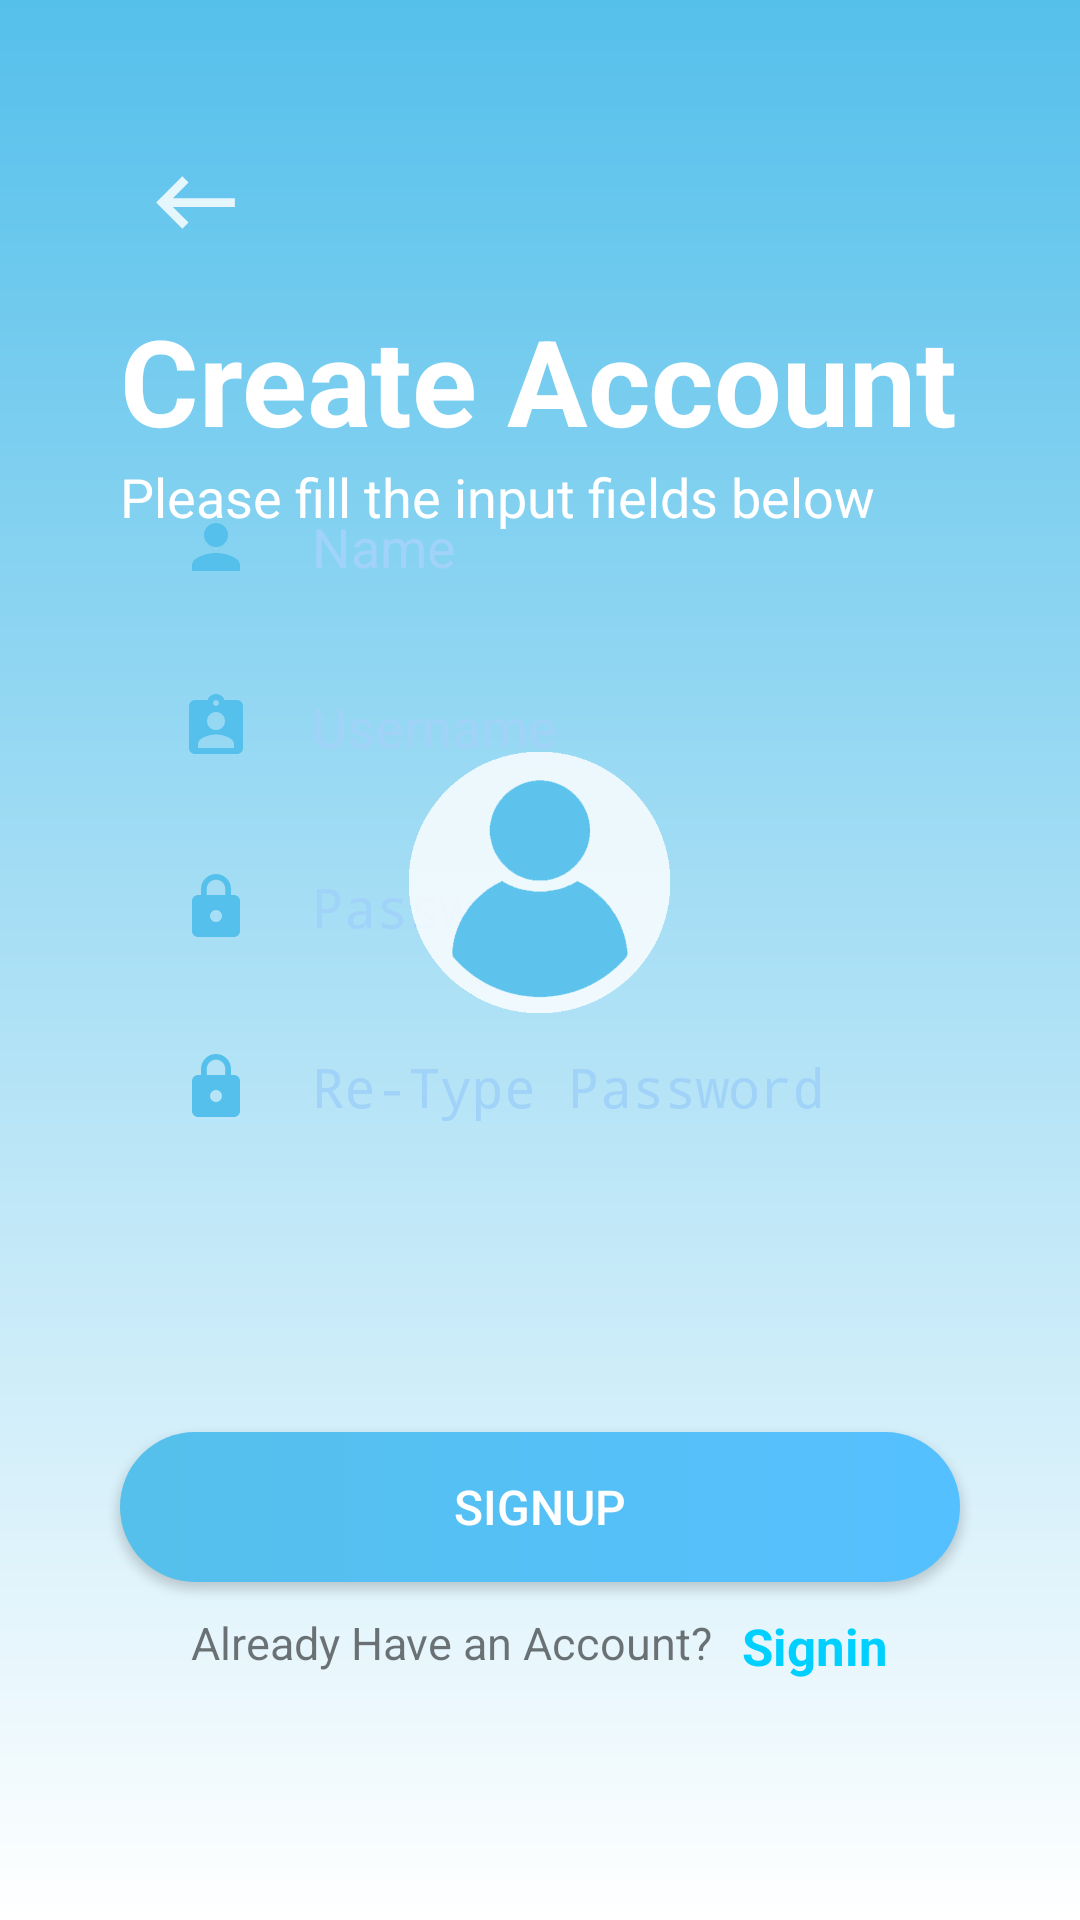

Named icons in this screenshot (1080px×1920px) and their centers, (x,y):
arrow back: (195,202)
userr: (539,882)
